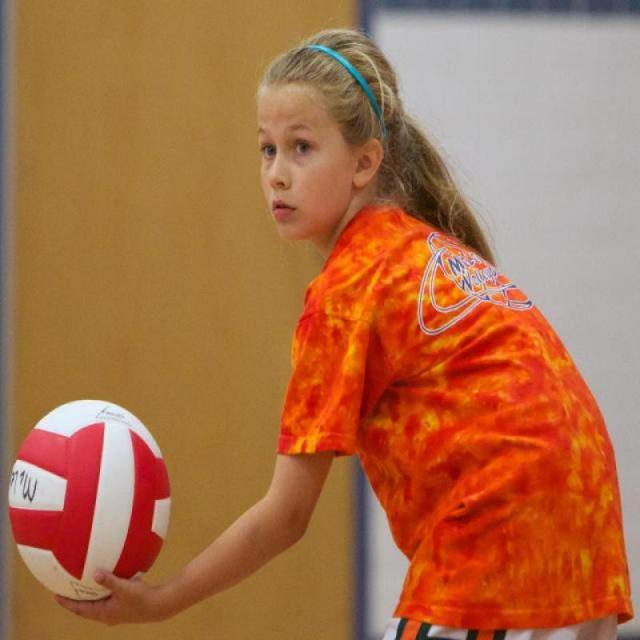volleyball: (5, 394, 174, 599)
